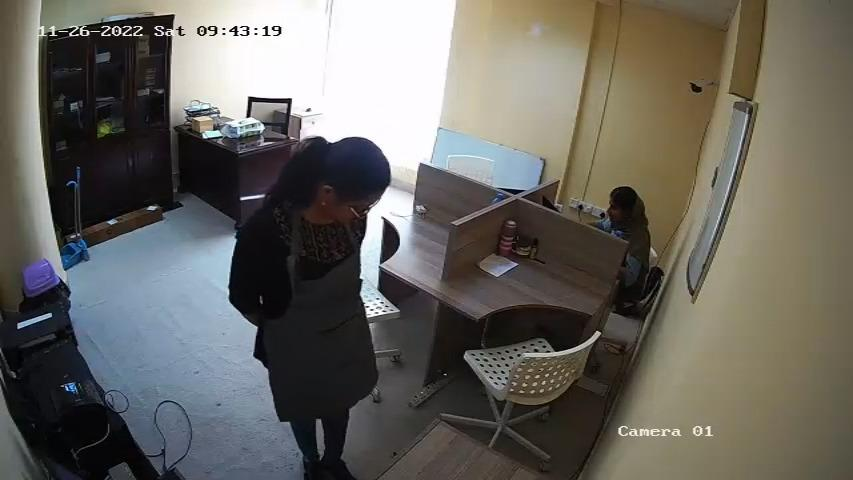apron: (278, 224, 367, 406)
